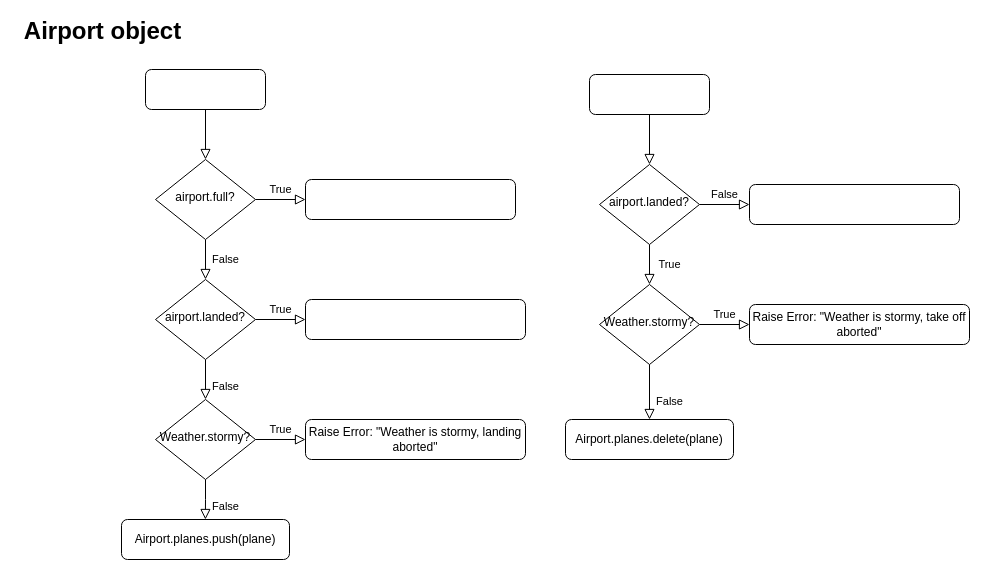
This 987x577 diagram has some shape labels left out. The box of each missing label's shape, as (x1, y1, x2, y2) in pixels:
Airport.land(plane): (144, 68, 266, 110)
Airport.take_off(plane): (588, 74, 710, 114)
Raise Error: "Airport capacity reached, cannot land": (304, 178, 516, 220)
Raise Error: "Plane does not exist, cannot take off": (748, 184, 960, 224)
Raise Error: "Plane has already landed at airport, method not possible": (304, 298, 526, 340)
